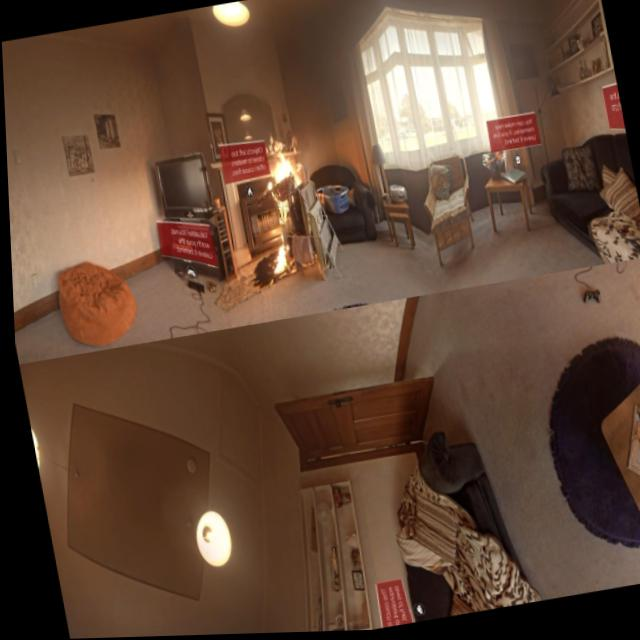fire: (251, 131, 315, 227), (260, 237, 294, 287)
